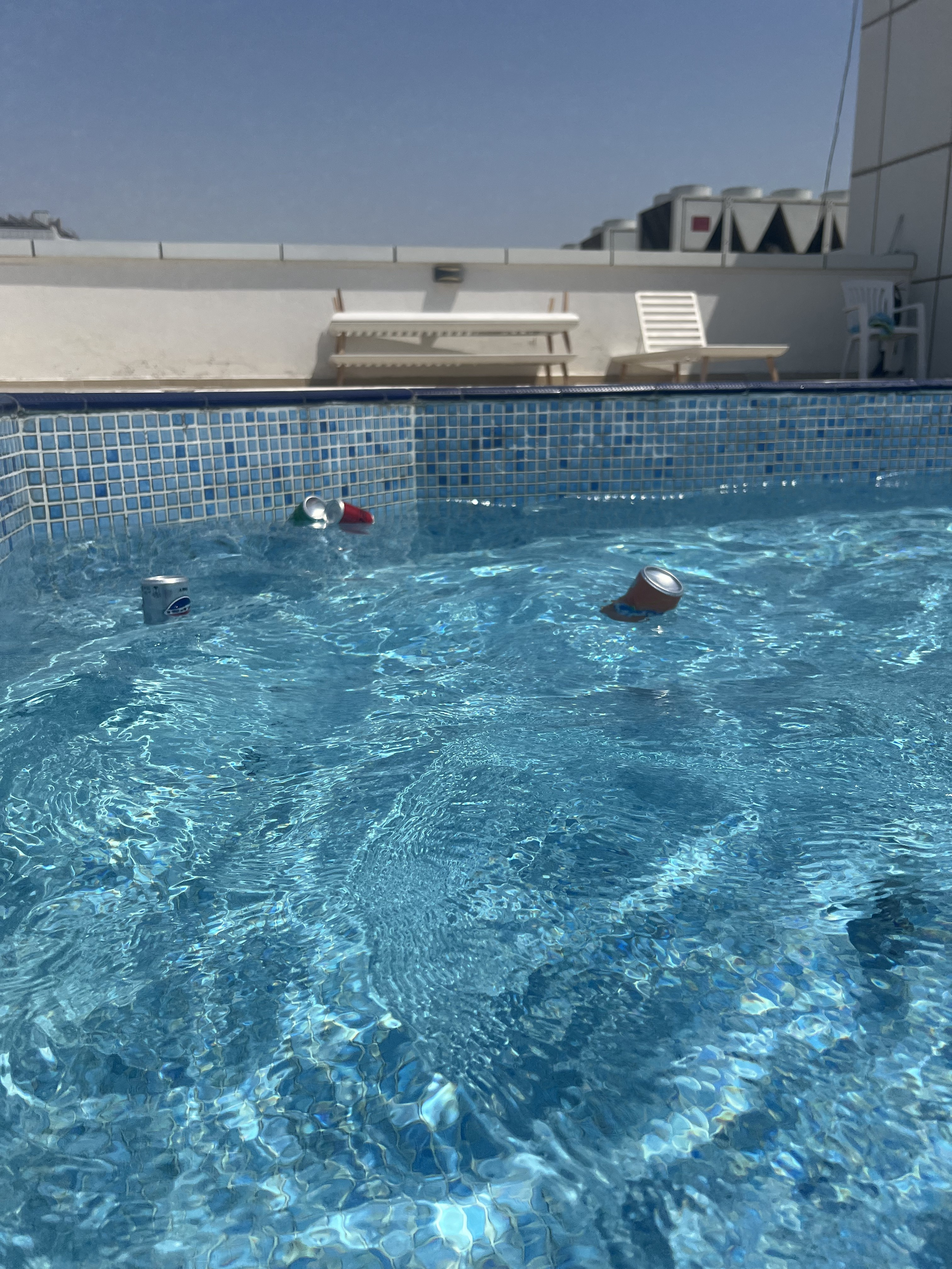debris: (615, 536, 685, 660), (133, 558, 195, 654), (326, 486, 381, 550), (286, 483, 328, 547)
